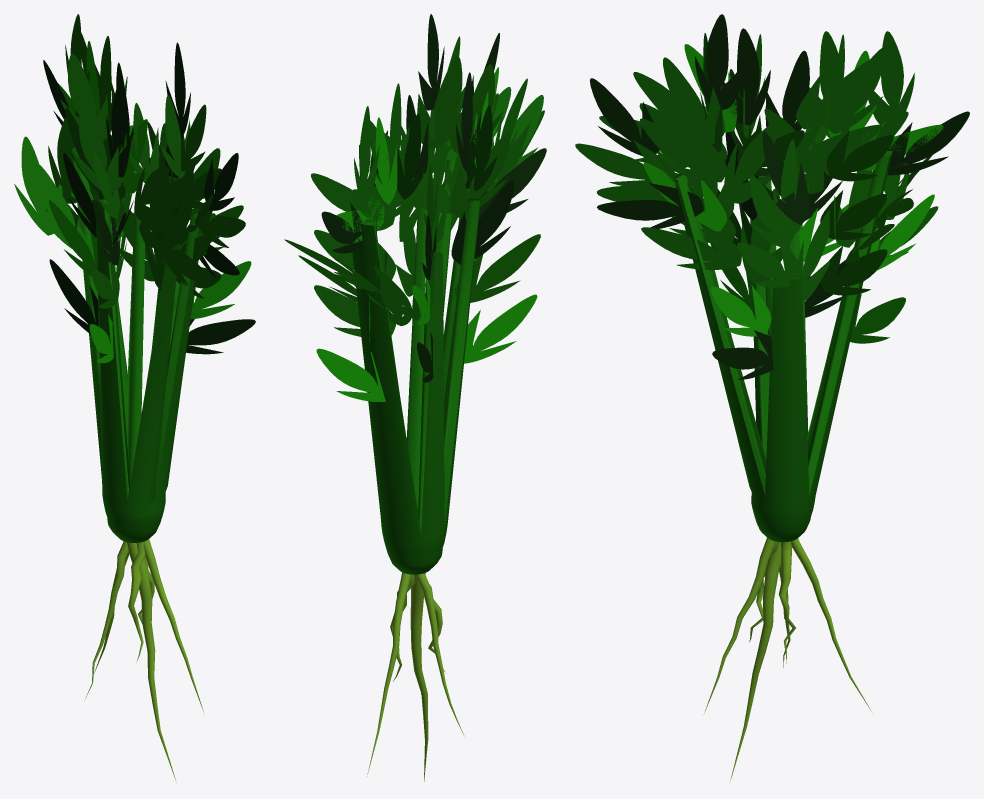
Rendered from 紅蘿蔔生長2.FBX.
3 renders of one model, left to right at view 1: azimuth 30°, elevation 25°; view 2: azimuth 150°, elevation 25°; view 3: azimuth 270°, elevation 25°, orthographic. The views are drawn at different scales.
Visible parts, largest first — view 1: Cone002, Line014, Cone008, Line053, Line010, Line025, Line024, Line038, Line039, Line055, Line048, Line063 (+32 smaller); view 2: Cone002, Line043, Line005, Line042, Line041, Line033, Line040, Cone008, Line034, Line014, Line010, Line044 (+31 smaller); view 3: Cone002, Line002, Line028, Line017, Line001, Line045, Line004, Line057, Line003, Line044, Line056, Line013 (+35 smaller).
Boxes of the visible parts, box(x1,y1,x2,y2) form: Cone002: box(72, 147, 199, 542); Line014: box(71, 104, 122, 192); Cone008: box(127, 542, 176, 781); Line053: box(14, 136, 62, 235); Line010: box(60, 53, 111, 140); Line025: box(174, 261, 251, 319); Line024: box(186, 319, 255, 354); Line038: box(49, 200, 97, 276); Line039: box(49, 259, 98, 334); Line055: box(35, 165, 92, 249); Line048: box(48, 115, 77, 203); Line063: box(139, 203, 186, 252); Cone002: box(352, 160, 480, 574); Line043: box(464, 294, 537, 363); Line005: box(417, 56, 462, 149); Line042: box(455, 234, 540, 302); Line041: box(451, 180, 514, 264); Line033: box(316, 348, 385, 401); Line040: box(449, 132, 510, 218); Cone008: box(410, 573, 428, 781); Line034: box(449, 64, 502, 154); Line014: box(466, 105, 496, 190); Line010: box(396, 114, 425, 199); Line044: box(354, 106, 379, 204); Cone002: box(673, 151, 891, 542); Line002: box(639, 118, 727, 182); Line028: box(796, 57, 876, 129); Line017: box(641, 222, 741, 269); Line001: box(695, 14, 746, 109); Line045: box(887, 111, 969, 175); Line004: box(663, 57, 724, 143); Line057: box(597, 183, 703, 228); Line003: box(724, 118, 783, 203); Line044: box(868, 31, 914, 123); Line056: box(590, 78, 659, 156); Line013: box(721, 28, 770, 125).
Size of the model in its own units: 27.66 by 116 by 53.97.
